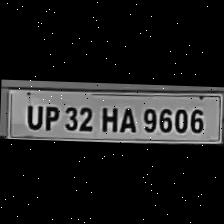0: (171, 104, 189, 132)
2: (76, 100, 94, 132)
3: (60, 101, 78, 130)
6: (186, 105, 206, 133), (155, 104, 173, 132)
9: (138, 103, 158, 132)
A: (117, 101, 137, 132)
H: (96, 101, 120, 133)
P: (41, 100, 61, 130)
U: (22, 100, 42, 128)
